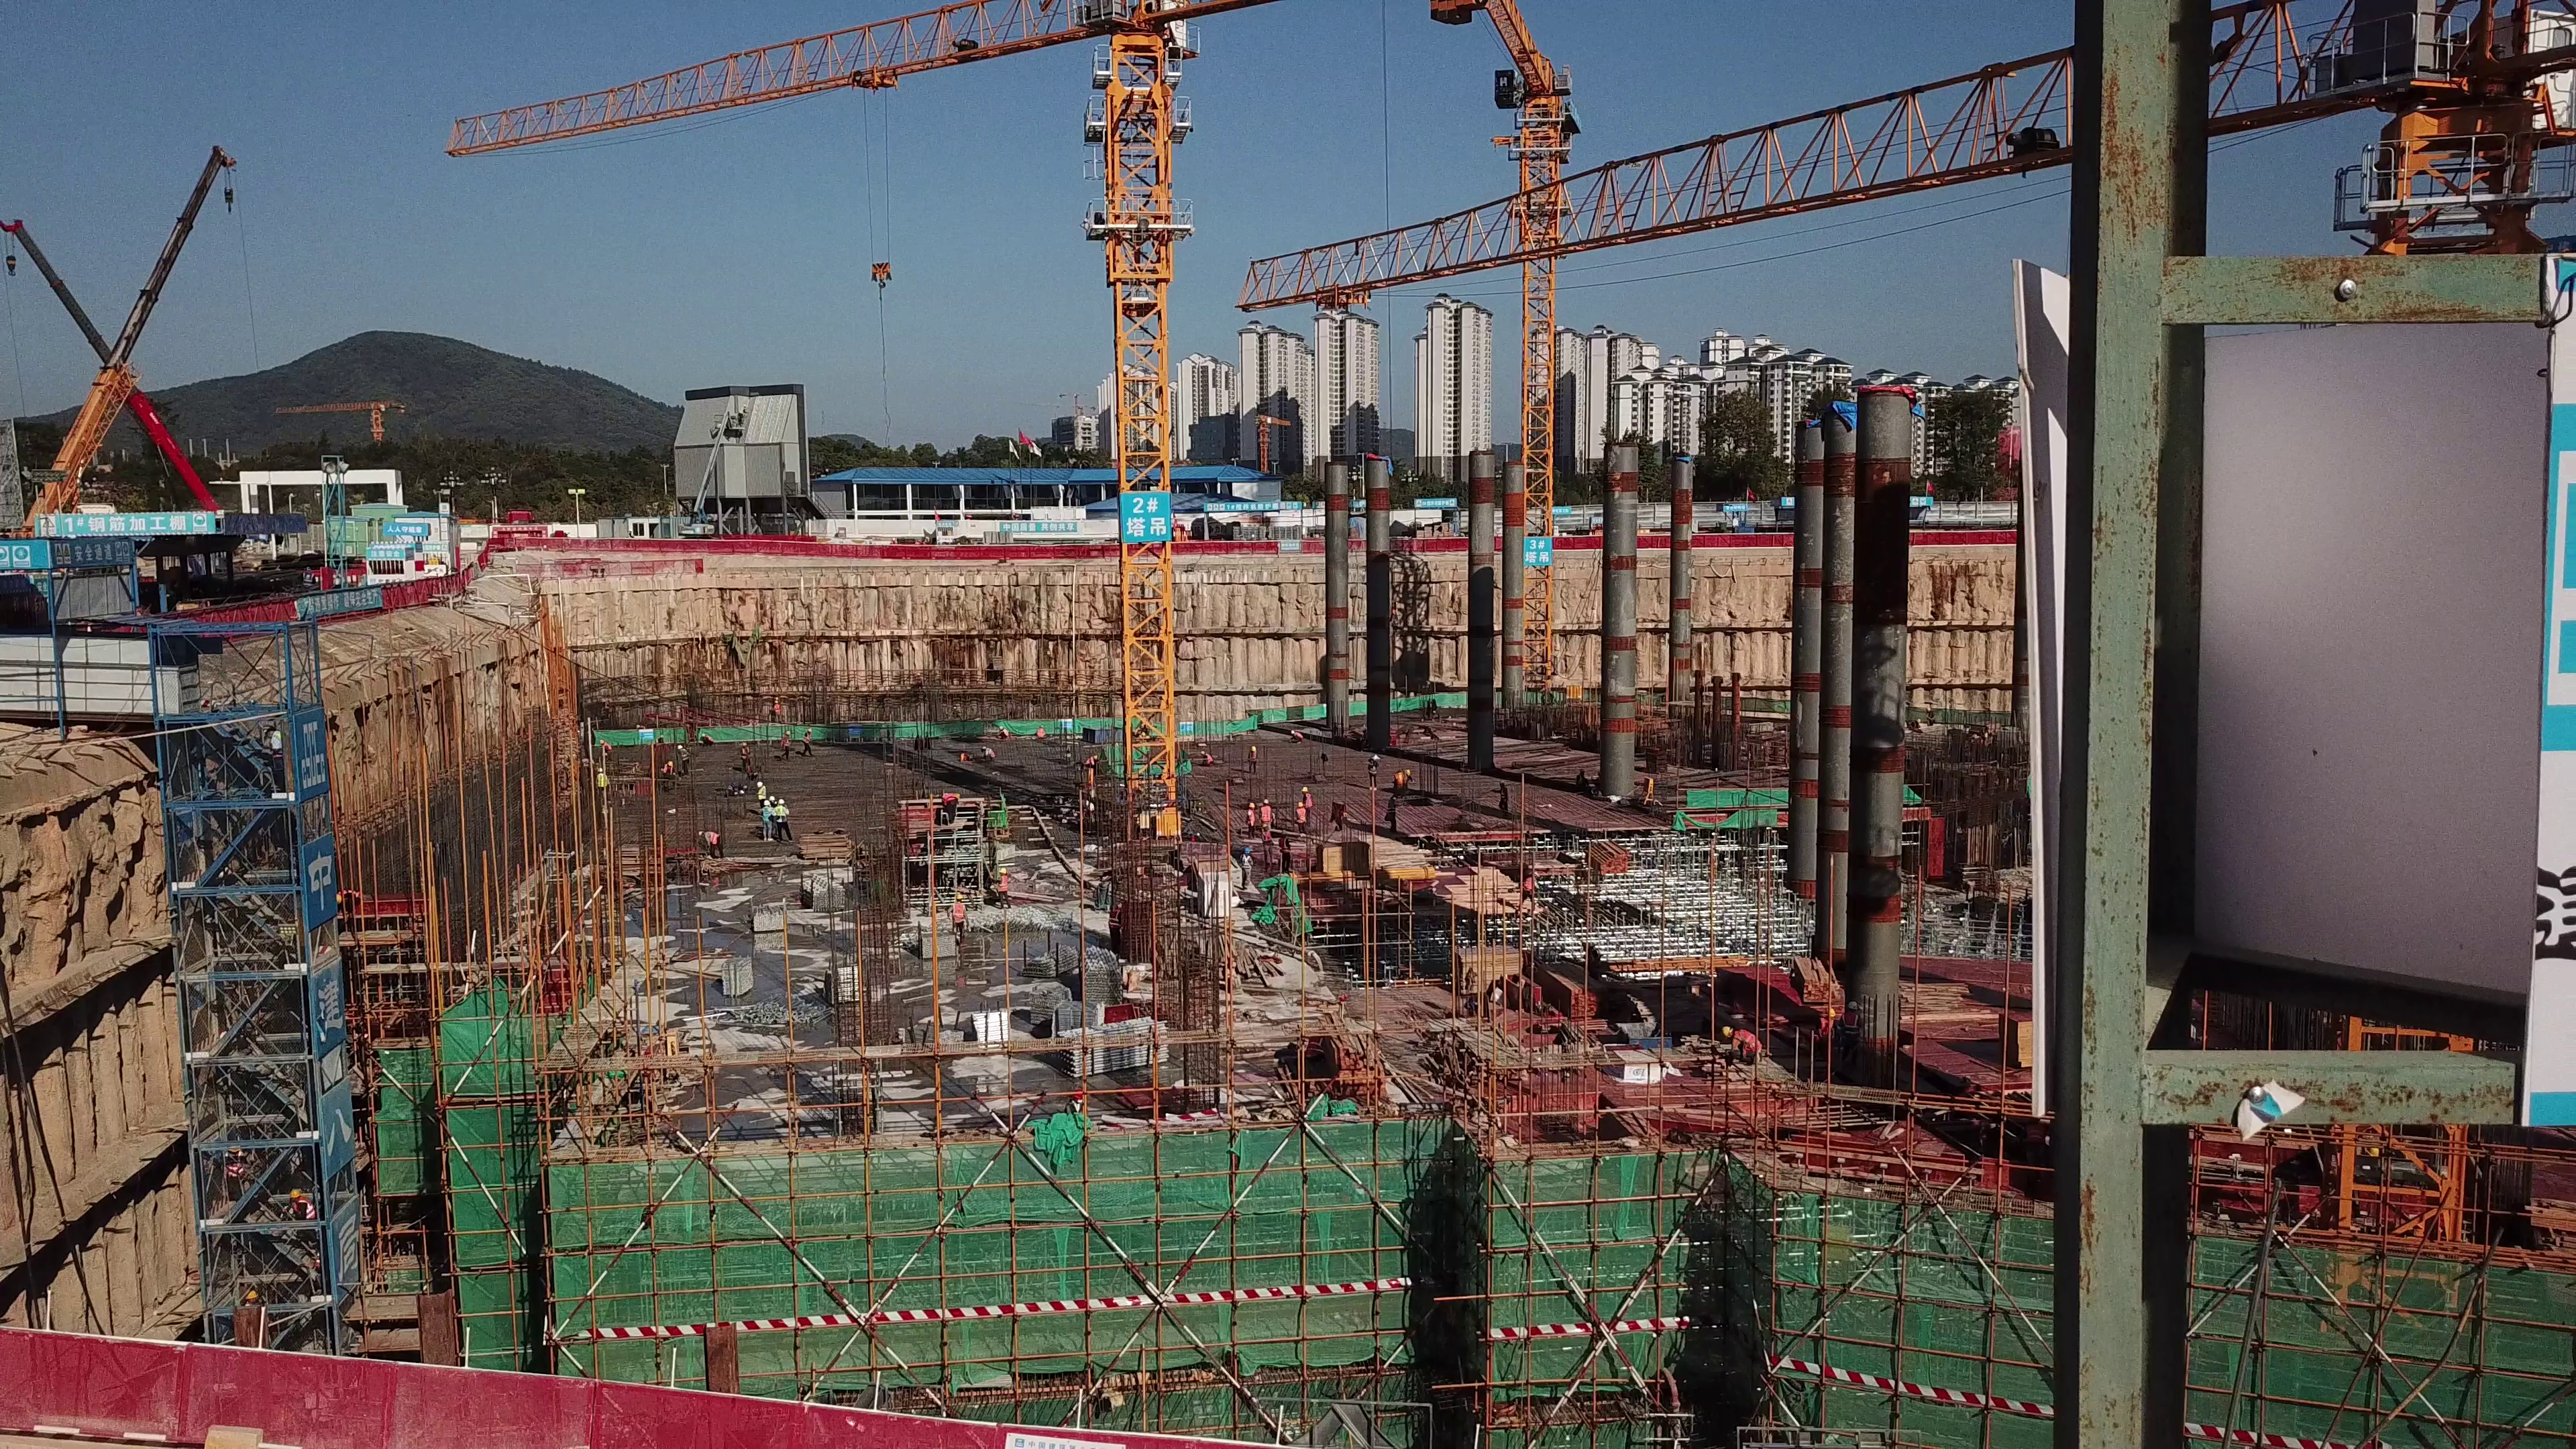board: (1452, 940, 1525, 1002), (1999, 1008, 2039, 1076), (1317, 837, 1373, 875)
helmet: (754, 782, 789, 809), (1246, 797, 1271, 807), (1721, 1023, 1733, 1038), (1299, 804, 1303, 808)
hook: (861, 248, 902, 290)
person: (754, 777, 794, 845), (1720, 1021, 1765, 1068), (1246, 794, 1277, 833), (950, 891, 972, 945), (696, 828, 729, 859), (1294, 784, 1311, 839), (993, 864, 1012, 907)
scaffold: (1050, 1012, 1172, 1073)
wood: (1305, 1007, 1392, 1105), (1537, 957, 1598, 1018), (1591, 834, 1633, 879)
